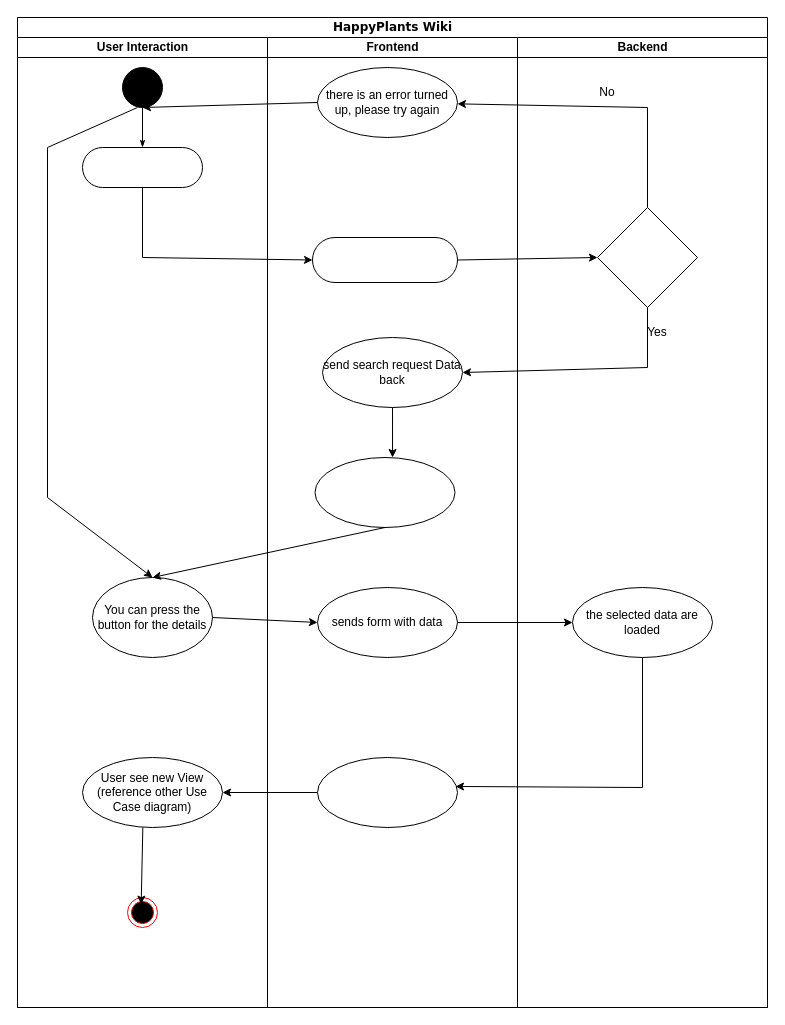
This 785x1025 diagram has some shape labels left out. The shapes that lost their labels are listed below. From the top down, each one's centre as x and y in pixels, then its label:
At point (142, 167): "Search Database about Plants".
At point (385, 259): "send a search query to the database".
At point (647, 257): "search request data accepted".
At point (384, 492): "the plant you are looking for is displayed".
At point (387, 792): "a new window opens with the selected data".
